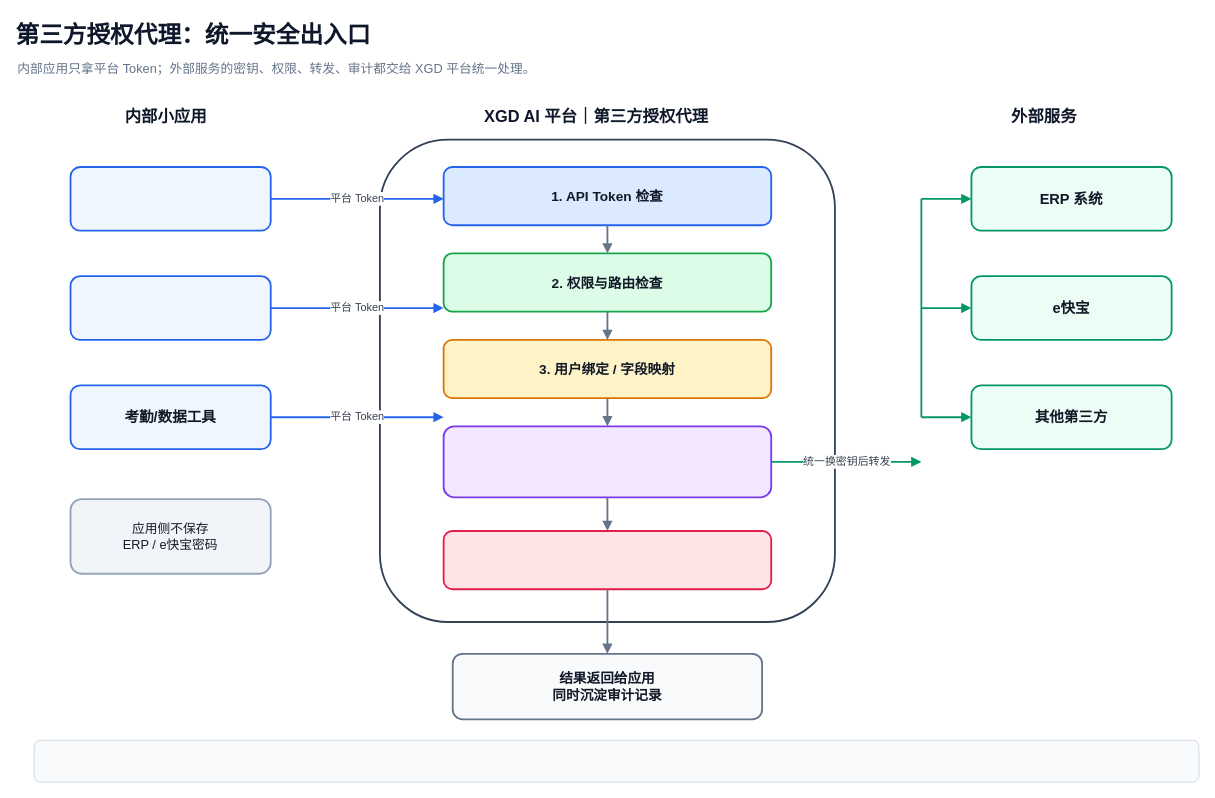
Some shapes in this 1215 by 798 pixel diagram are drawn without their labels. Each missing label, with the centre of its shape:
4. 密钥保险箱 加密保存、统一换密钥: point 607,461
5. 调用记录 / 审计日志: point 607,560
审批系统: point 170,307
报销小工具: point 170,198
汇报口径：它像一个“安全代办窗口”。小应用只找平台办事，平台负责确认身份、拿正确钥匙、调用外部系统、留下记录。: point 616,760
